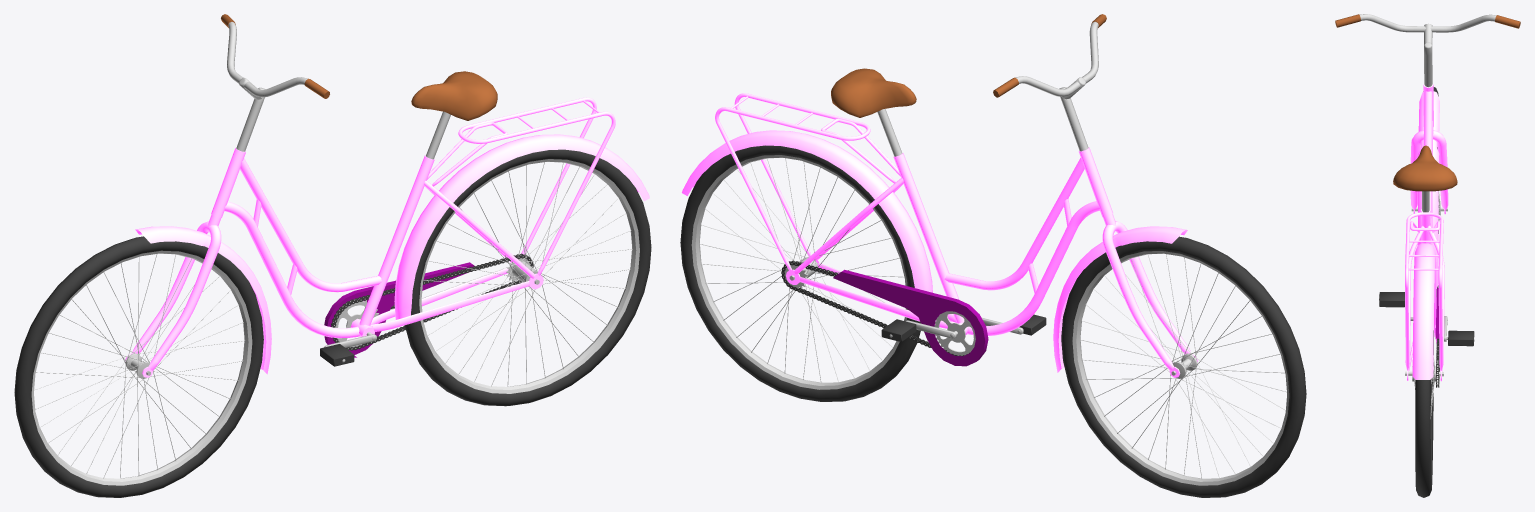
Rendered from badguyBike.fbx.
The picture shows the model from 3 angles, left to right: view 1: azimuth 30°, elevation 25°; view 2: azimuth 150°, elevation 25°; view 3: azimuth 270°, elevation 25°; orthographic projection. The views are drawn at different scales.
Parts seen in each view (by area): view 1: badguyBike, Tyre_001, Tyre, Handlebar, Hub_001, Rim, Rim_001, Hub, Seat, ChainShield, Chain; view 2: badguyBike, Tyre_001, Tyre, Handlebar, Hub_001, ChainShield, Rim_001, Rim, Seat, Hub, Chain, FrontSprocket; view 3: badguyBike, Handlebar, Tyre, Seat, PedalR, PedalL.
Part boxes in pixels (x1,y1,x2,y2): badguyBike: (211, 97, 649, 338); Tyre_001: (14, 236, 263, 497); Tyre: (405, 149, 651, 406); Handlebar: (125, 14, 329, 377); Hub_001: (34, 254, 244, 478); Rim: (419, 159, 639, 393); Rim_001: (31, 250, 252, 485); Hub: (422, 162, 632, 386); Seat: (411, 71, 497, 159); ChainShield: (324, 262, 474, 357); Chain: (331, 253, 533, 350); badguyBike: (682, 93, 1112, 335); Tyre_001: (1061, 236, 1306, 497); Tyre: (680, 145, 920, 401); Handlebar: (993, 14, 1198, 377); Hub_001: (1080, 254, 1286, 478); ChainShield: (833, 269, 988, 366); Rim_001: (1072, 251, 1289, 485); Rim: (691, 155, 907, 389); Seat: (831, 68, 916, 156); Hub: (699, 158, 903, 382); Chain: (781, 260, 969, 356); FrontSprocket: (934, 311, 975, 355); badguyBike: (1405, 83, 1444, 381); Handlebar: (1335, 14, 1520, 288); Tyre: (1415, 330, 1433, 497); Seat: (1393, 145, 1457, 212); PedalR: (1448, 330, 1474, 346); PedalL: (1379, 292, 1404, 307).
Bounding box in the file's own units: 204 × 128 × 59.41.
